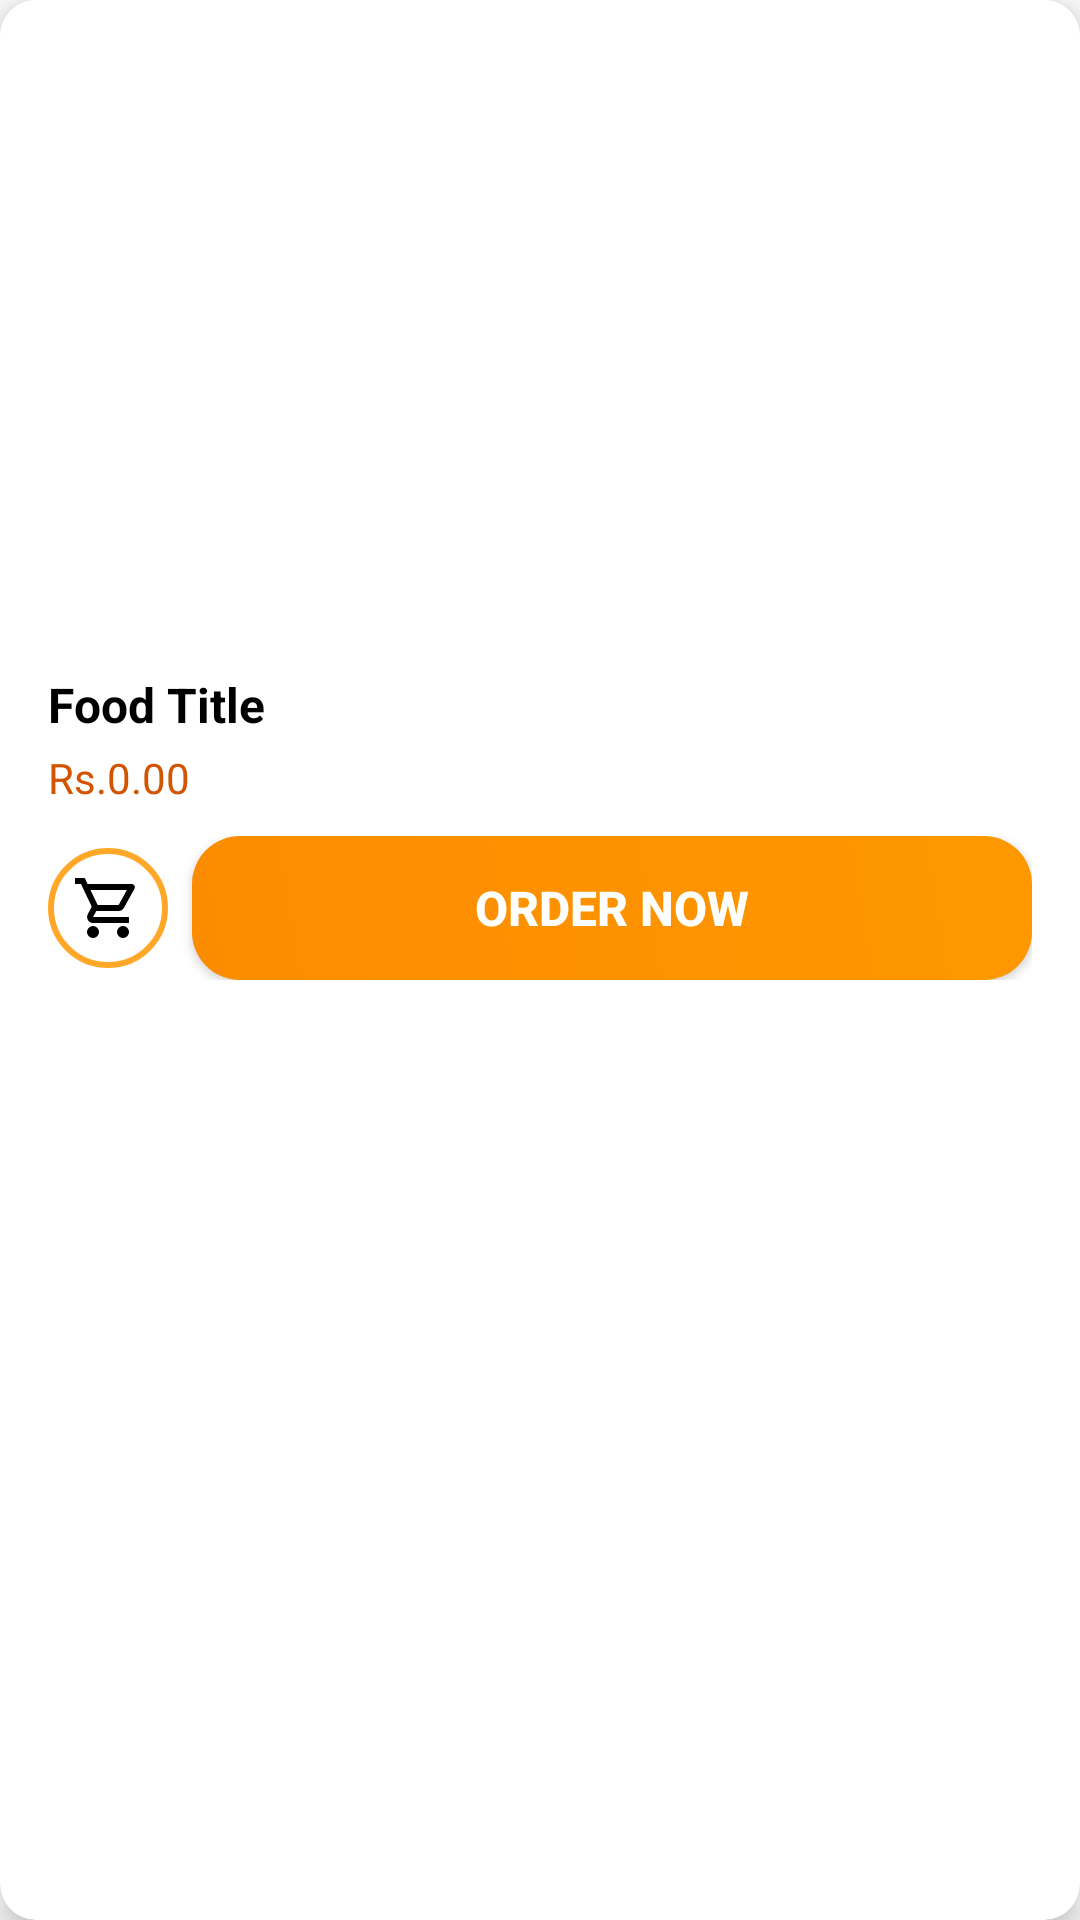

Icons on this 1080 x 1920 Android screen, each with its box as (x1, y1, x2, y2):
Add to Cart: (48, 848, 168, 968)
